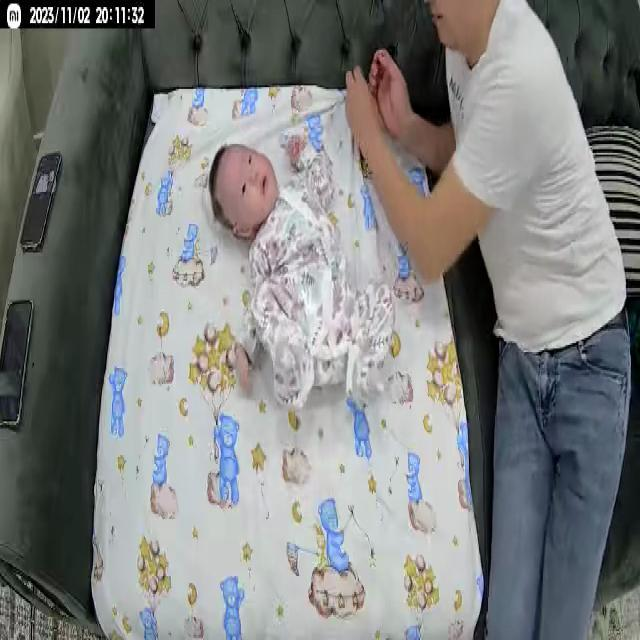baby: (206, 132, 400, 422)
